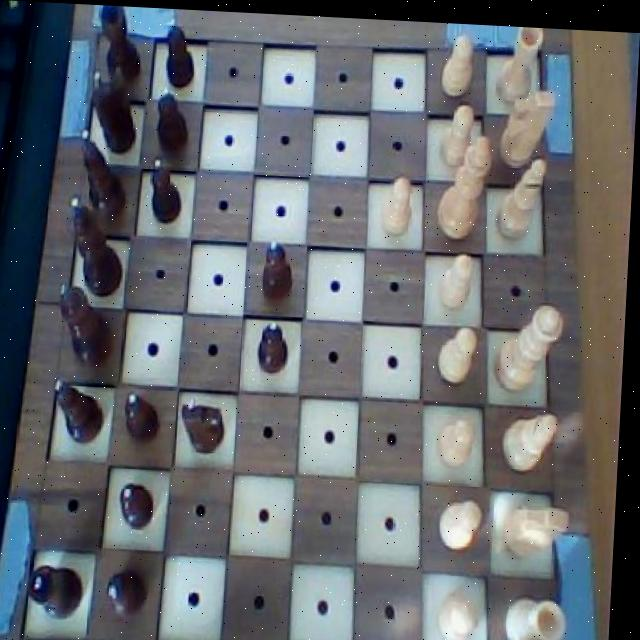bishop: (74, 122, 134, 225), (52, 375, 113, 451)
black-bishop: (64, 191, 131, 299)
black-king: (81, 68, 142, 154), (179, 394, 237, 455)
black-knight: (158, 14, 203, 93), (148, 80, 192, 156), (145, 154, 189, 228), (260, 230, 302, 304), (110, 561, 157, 626), (256, 313, 299, 381), (124, 388, 170, 451), (121, 473, 166, 536)
black-pawn: (54, 278, 123, 372)
black-queen: (94, 4, 148, 91), (32, 559, 96, 621)
black-rook: (494, 144, 554, 243), (499, 400, 566, 475)
white-bishop: (431, 126, 497, 243)
white-king: (497, 76, 561, 167), (504, 493, 578, 560)
white-knight: (438, 488, 492, 553), (437, 315, 485, 385), (379, 163, 423, 236), (439, 94, 480, 171), (437, 406, 484, 471), (438, 21, 478, 97), (441, 584, 491, 640), (438, 246, 480, 309)
white-pawn: (495, 293, 571, 393)
white-queen: (490, 20, 549, 105), (505, 583, 577, 640)
